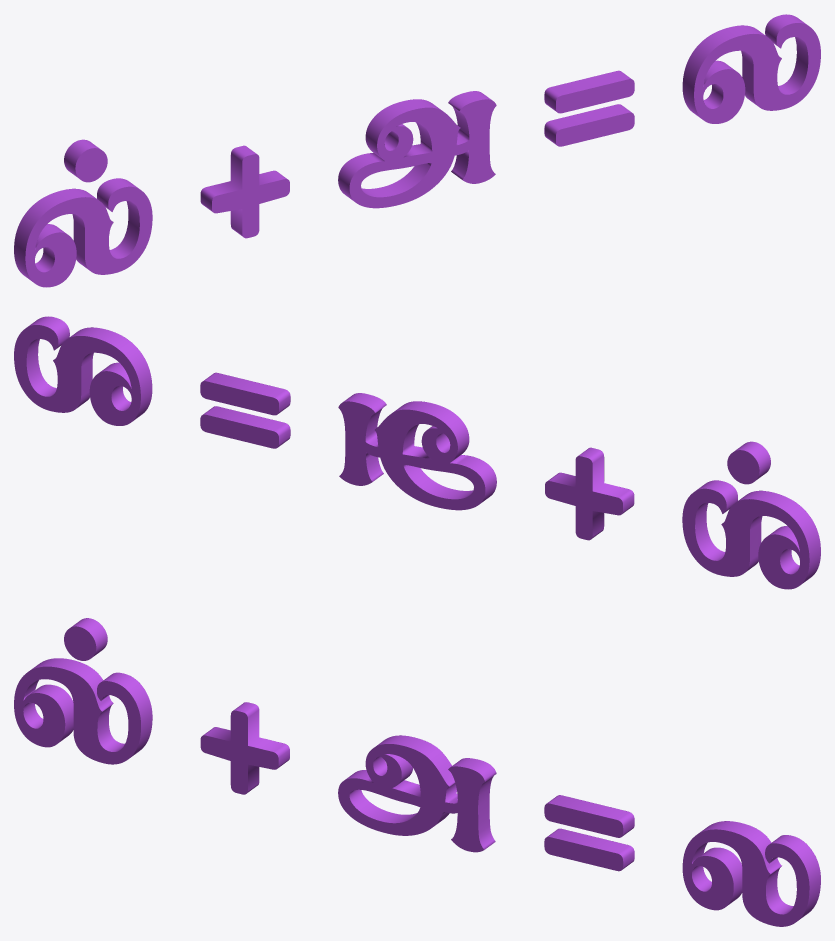
3 renders of one model, top to bottom at view 1: azimuth 30°, elevation 25°; view 2: azimuth 150°, elevation 25°; view 3: azimuth 330°, elevation 25°, orthographic.
Parts seen in each view (by area): view 1: la; view 2: la; view 3: la.
Part boxes in pixels (bbox=[...]): la: bbox=[14, 14, 820, 287]; la: bbox=[14, 316, 820, 589]; la: bbox=[14, 618, 820, 926].
Bounding box in the file's own units: 0.1729 × 0.0273 × 0.00431.
